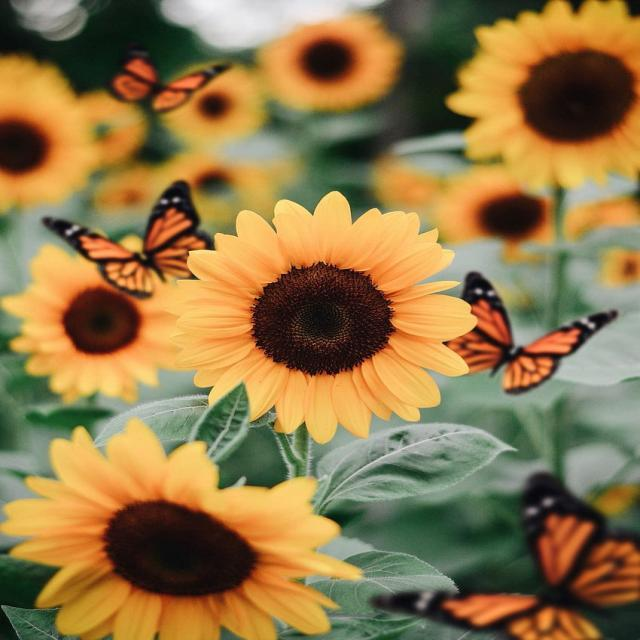sunflower: (1, 417, 363, 639), (168, 190, 478, 443), (444, 0, 639, 190), (0, 243, 184, 404), (0, 53, 95, 210), (260, 15, 403, 112), (434, 168, 555, 262), (161, 65, 264, 144), (161, 152, 268, 218), (74, 89, 148, 166), (562, 195, 640, 236), (96, 168, 162, 214), (374, 156, 430, 207), (606, 250, 640, 288)
